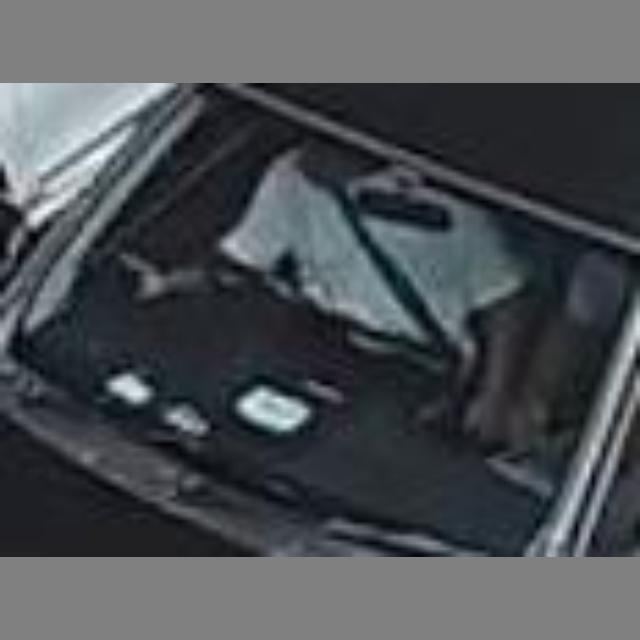pakai: (177, 138, 524, 436)
